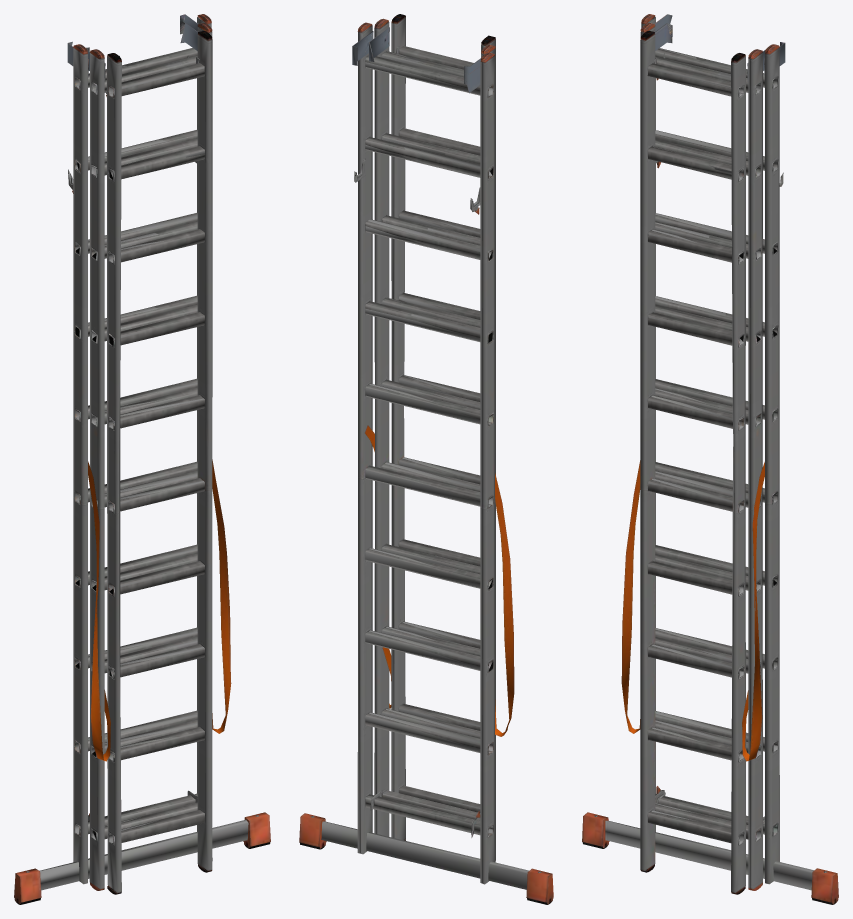
The model's file is ladder_sectioned_01.gltf.
3 renders of one model, left to right at view 1: azimuth 30°, elevation 25°; view 2: azimuth 150°, elevation 25°; view 3: azimuth 330°, elevation 25°, orthographic.
Parts seen in each view (by area): view 1: ladder_section_03, ladder_section_01, ladder_section_02, ladder_ribbon; view 2: ladder_section_01, ladder_section_02, ladder_section_03, ladder_ribbon; view 3: ladder_section_03, ladder_section_01, ladder_section_02, ladder_ribbon.
Boxes of the visible parts, x1=… form: ladder_section_03: x1=106, y1=31, x2=212, y2=894; ladder_section_01: x1=14, y1=14, x2=270, y2=904; ladder_section_02: x1=86, y1=23, x2=212, y2=890; ladder_ribbon: x1=88, y1=459, x2=231, y2=761; ladder_section_01: x1=299, y1=22, x2=553, y2=904; ladder_section_02: x1=369, y1=18, x2=495, y2=862; ladder_section_03: x1=391, y1=14, x2=495, y2=860; ladder_ribbon: x1=365, y1=425, x2=514, y2=736; ladder_section_03: x1=640, y1=31, x2=745, y2=894; ladder_section_01: x1=582, y1=14, x2=838, y2=904; ladder_section_02: x1=640, y1=23, x2=765, y2=890; ladder_ribbon: x1=621, y1=460, x2=764, y2=761.
Bounding box in the file's own units: 0.6615 × 2.13 × 0.177.
1 material, 1 textured.
